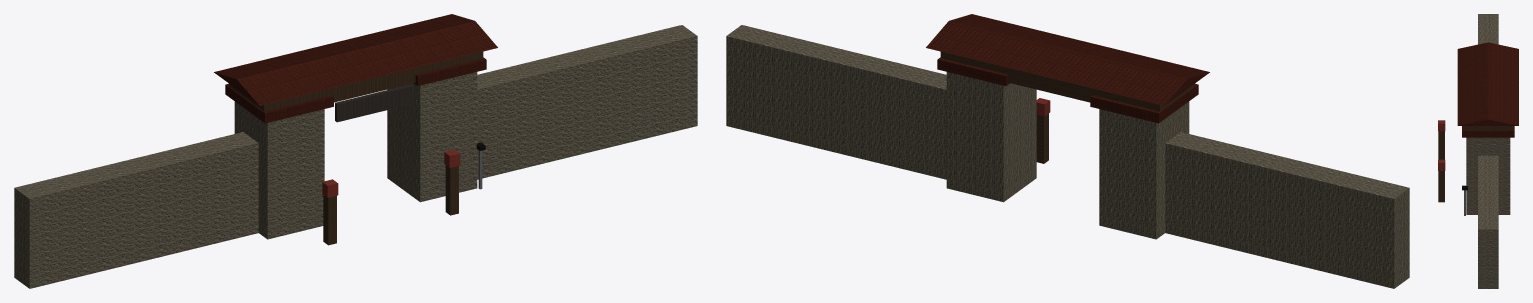
File: castle_gate_01.glb
3 renders of one model, left to right at view 1: azimuth 30°, elevation 25°; view 2: azimuth 150°, elevation 25°; view 3: azimuth 270°, elevation 25°, orthographic. The views are drawn at different scales.
Parts seen in each view (by area): view 1: castle_gate_01; view 2: castle_gate_01; view 3: castle_gate_01.
Part boxes in pixels (<box>): castle_gate_01: <box>14,14,697,288</box>; castle_gate_01: <box>726,14,1409,288</box>; castle_gate_01: <box>1438,14,1518,288</box>.
Size of the model in its own units: 35 by 7.6 by 5.55.
Materials: 7 (7 with a texture image).
